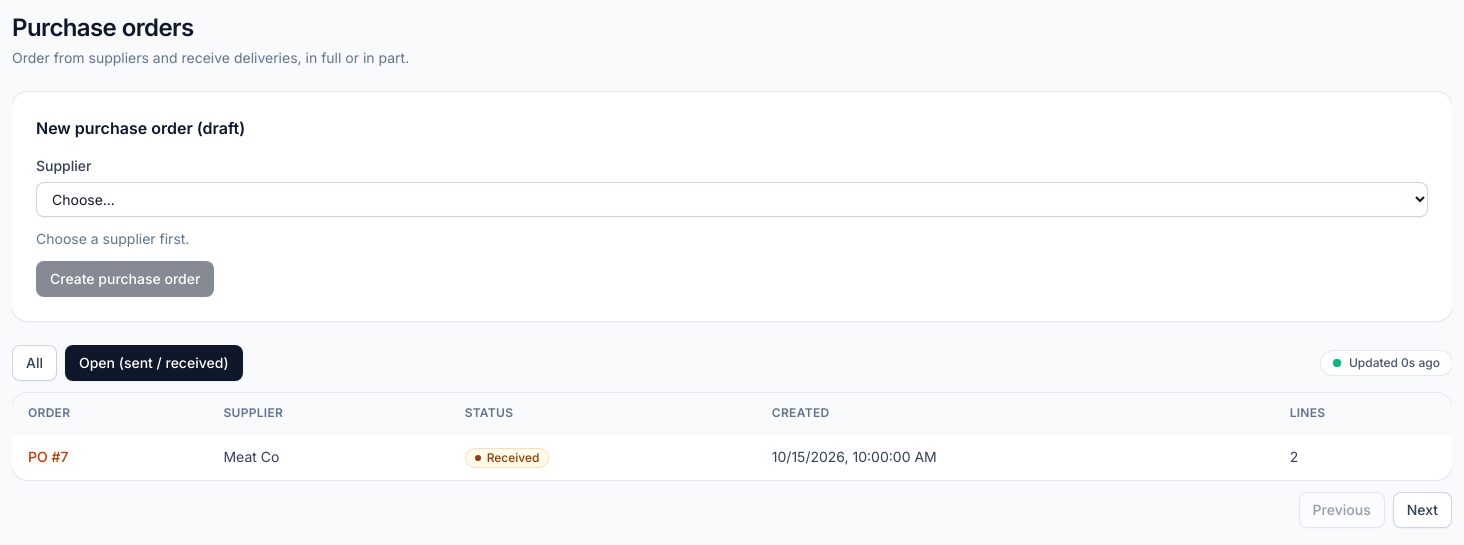
PurchaseOrdersPage › pages through open orders with the cursor token and the status filter
Click the button "Next" at [1422, 510], box [1393,492,1452,528]
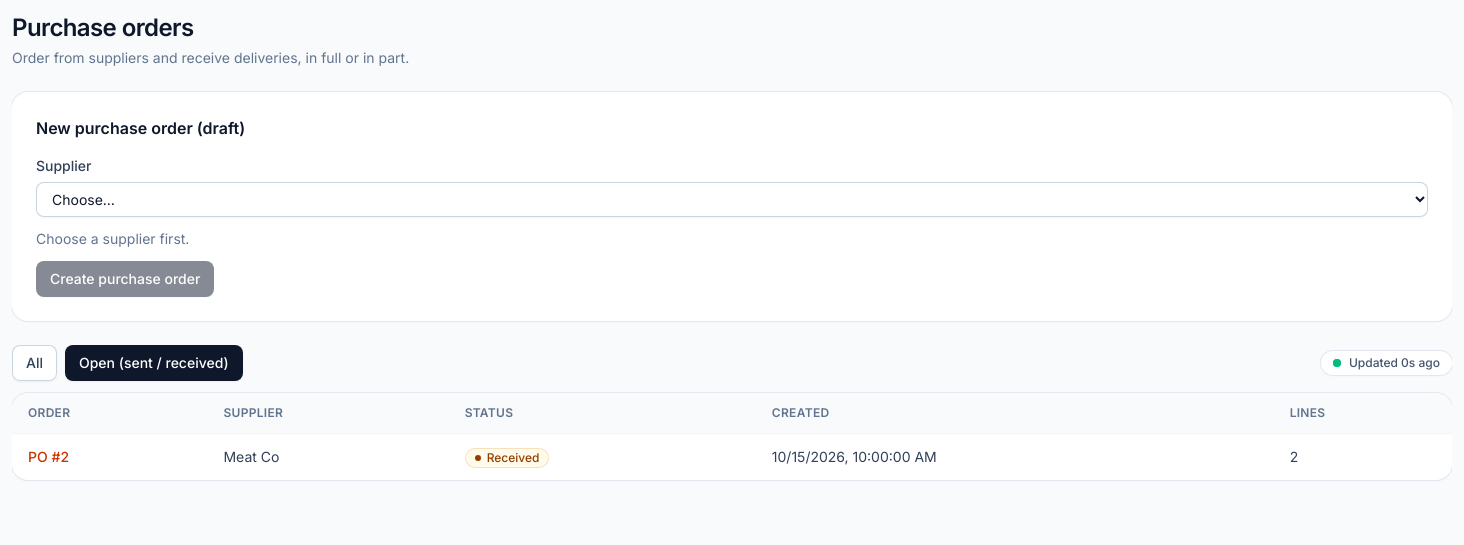
Result: the link "PO #2" is shown at [28,448,69,465]
